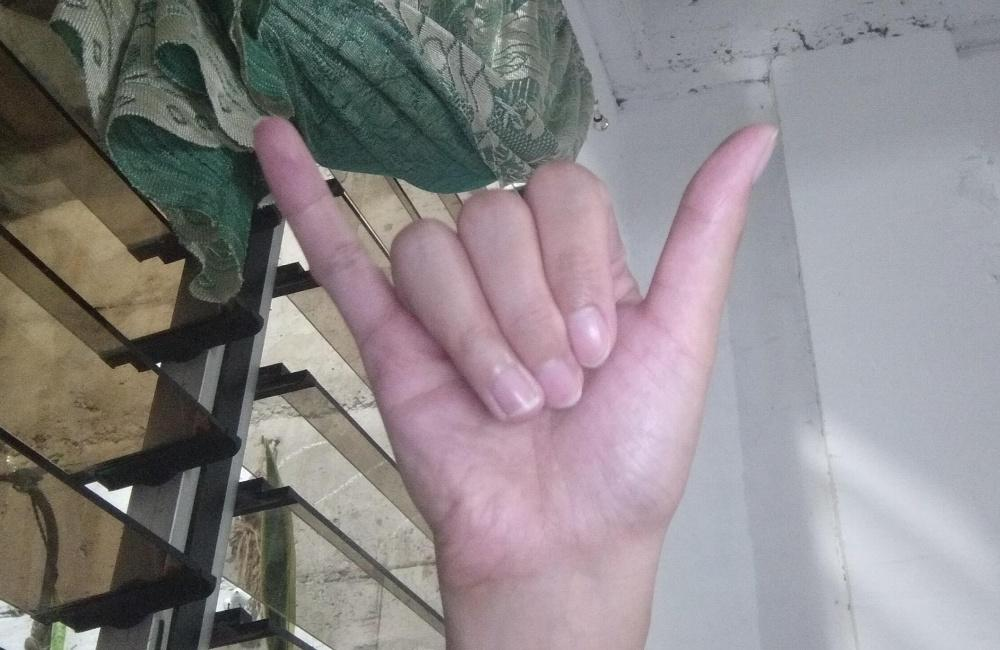y: (249, 110, 781, 572)
